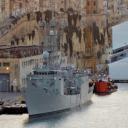Fragata: (20, 9, 96, 120)
